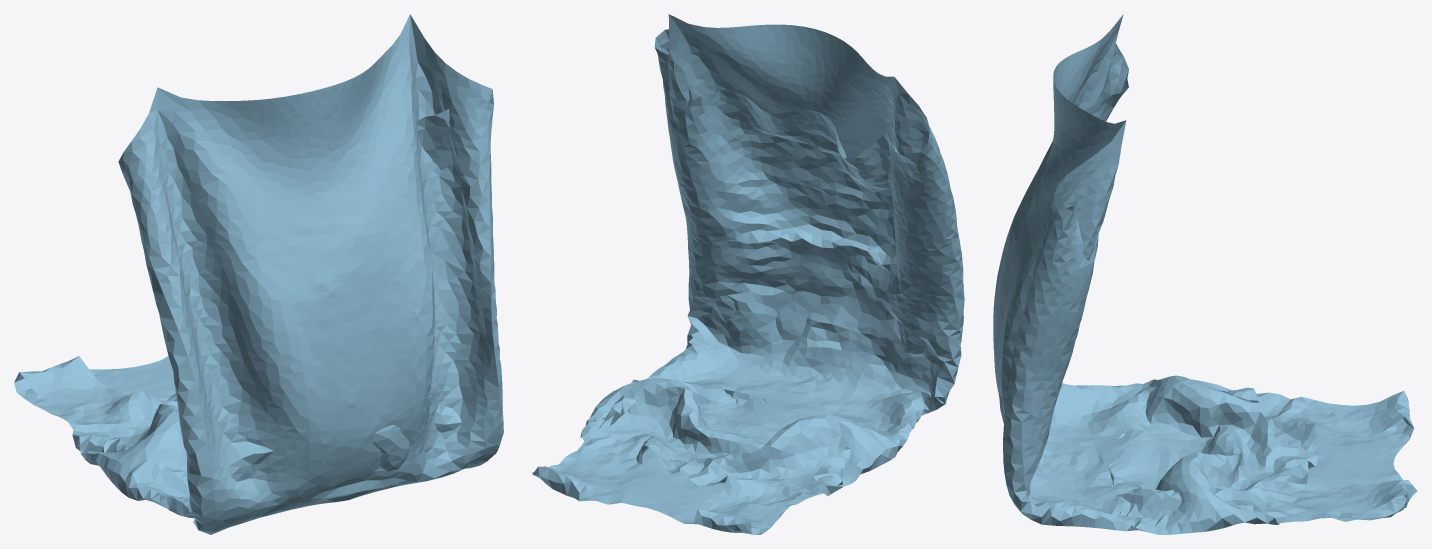
The model's file is frame_12.glb.
3 views of the same model, side by side, from view 1: azimuth 30°, elevation 25°; view 2: azimuth 150°, elevation 25°; view 3: azimuth 270°, elevation 25° (orthographic). The views are drawn at different scales.
Visible parts, largest first — view 1: frame_12.obj; view 2: frame_12.obj; view 3: frame_12.obj.
Boxes of the visible parts, x1,y1,x2,y2 form: frame_12.obj: [14, 14, 503, 534]; frame_12.obj: [532, 14, 964, 534]; frame_12.obj: [993, 14, 1417, 534].
Size of the model in its own units: 0.8776 by 1.06 by 1.01.
